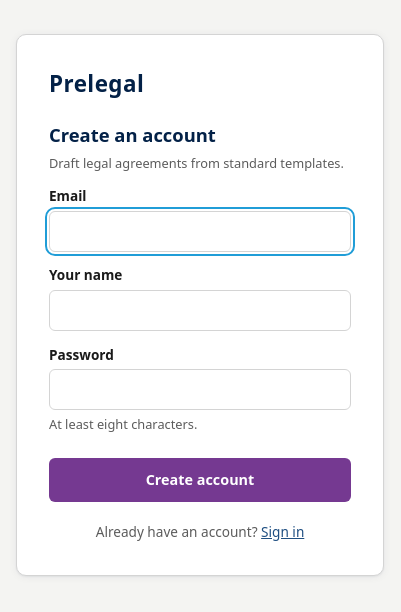
Test case: the sign up screen › says so when the email is already registered
The width and height of the screenshot is (401, 612).
In the field labelled "Email": (200, 231) [49, 211, 351, 252], type "ada@example.com"
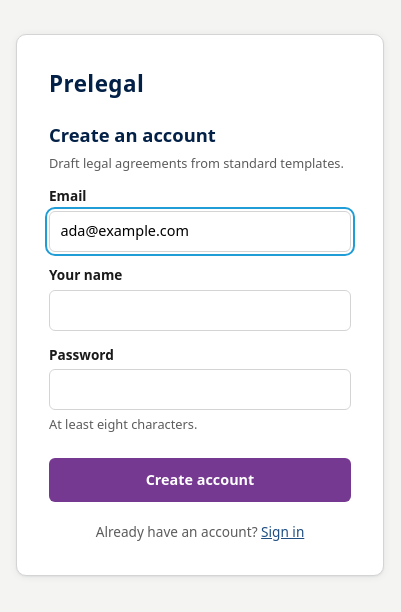
In the field labelled "Your name": (200, 310) [49, 290, 351, 331], type "Ada"
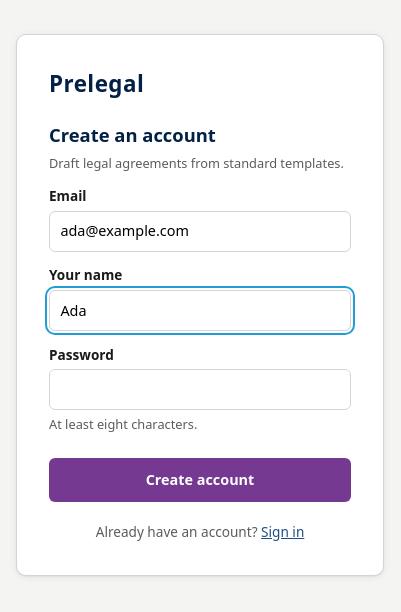
In the password field labelled "Password": (200, 390) [49, 369, 351, 410], type "opensesame"
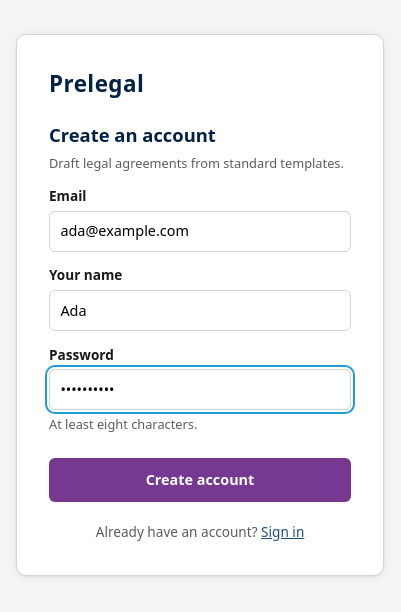
Click the button "Create account": (200, 480) [49, 458, 351, 502]
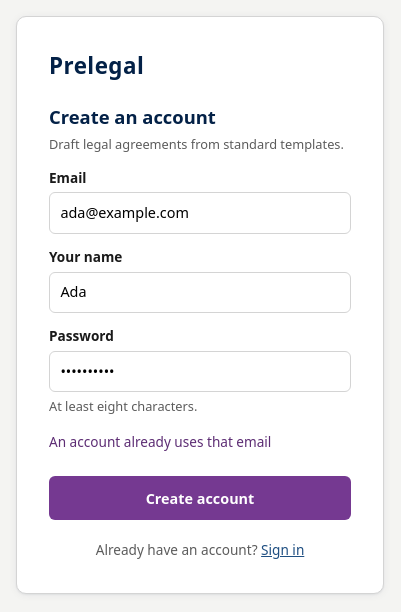
Now the message reads "An account already uses that email", box [49, 432, 271, 451]
